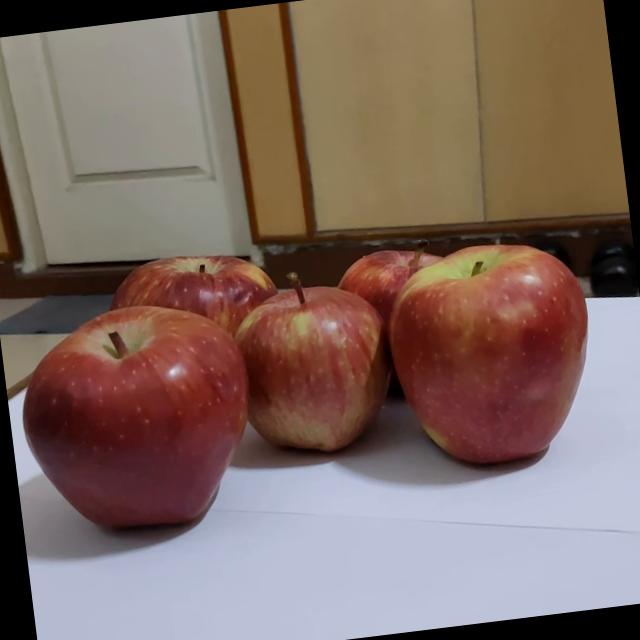apple: (15, 302, 276, 576), (61, 254, 278, 463), (408, 252, 616, 466), (250, 292, 437, 478), (290, 230, 447, 384)
